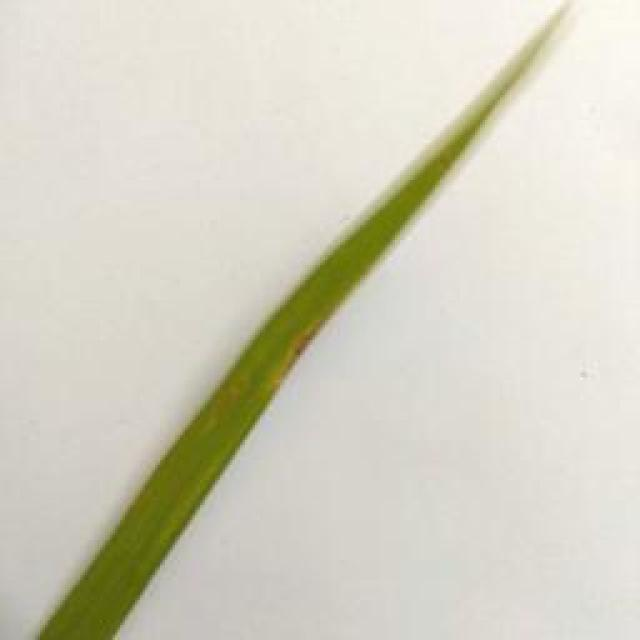Unhealthy: (276, 319, 323, 383)
